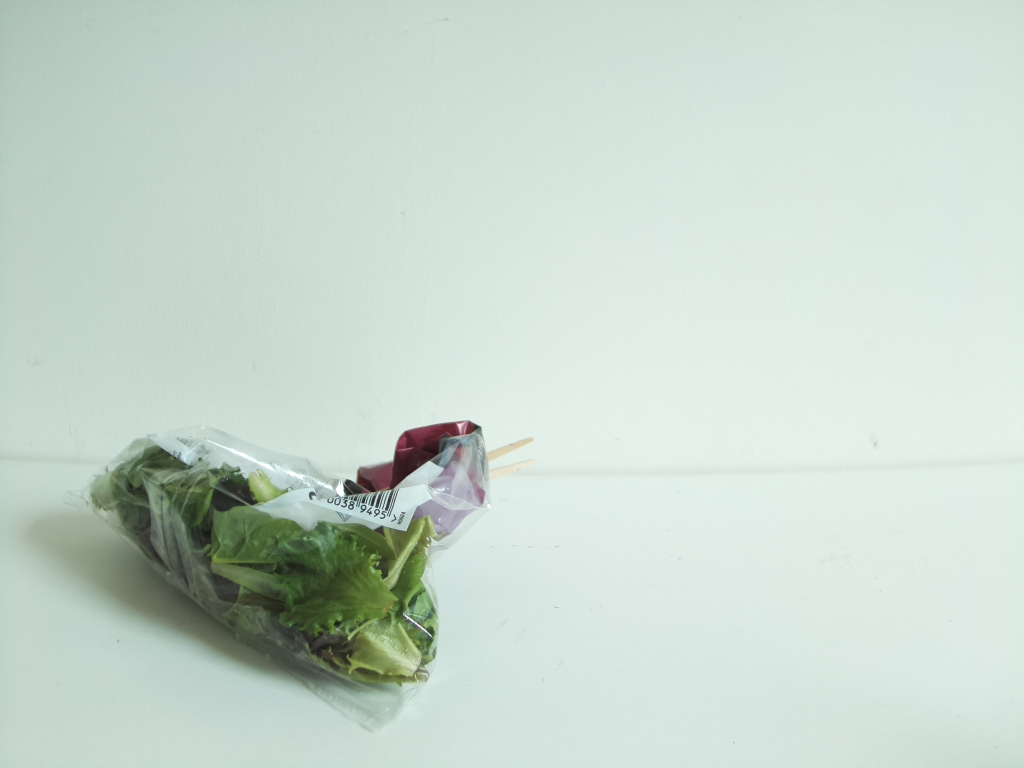salad: (89, 417, 489, 724)
